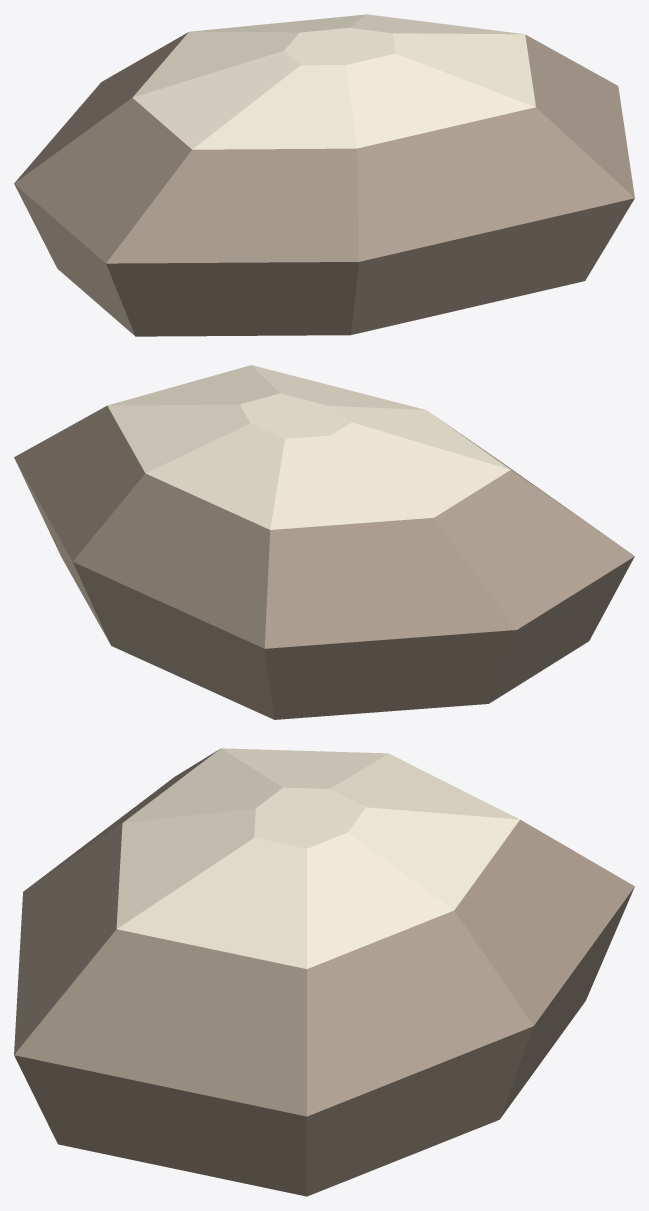
Rendered from garden-boulder.glb.
The picture shows the model from 3 angles, top to bottom: view 1: azimuth 30°, elevation 25°; view 2: azimuth 150°, elevation 25°; view 3: azimuth 270°, elevation 25°; orthographic projection. The views are drawn at different scales.
Visible parts, largest first — view 1: garden-boulder; view 2: garden-boulder; view 3: garden-boulder.
Part boxes in pixels (x1,y1,x2,y2): garden-boulder: [14, 14, 634, 336]; garden-boulder: [14, 365, 634, 719]; garden-boulder: [14, 748, 634, 1196].
Size of the model in its own units: 3.93 by 1.3 by 3.04.
